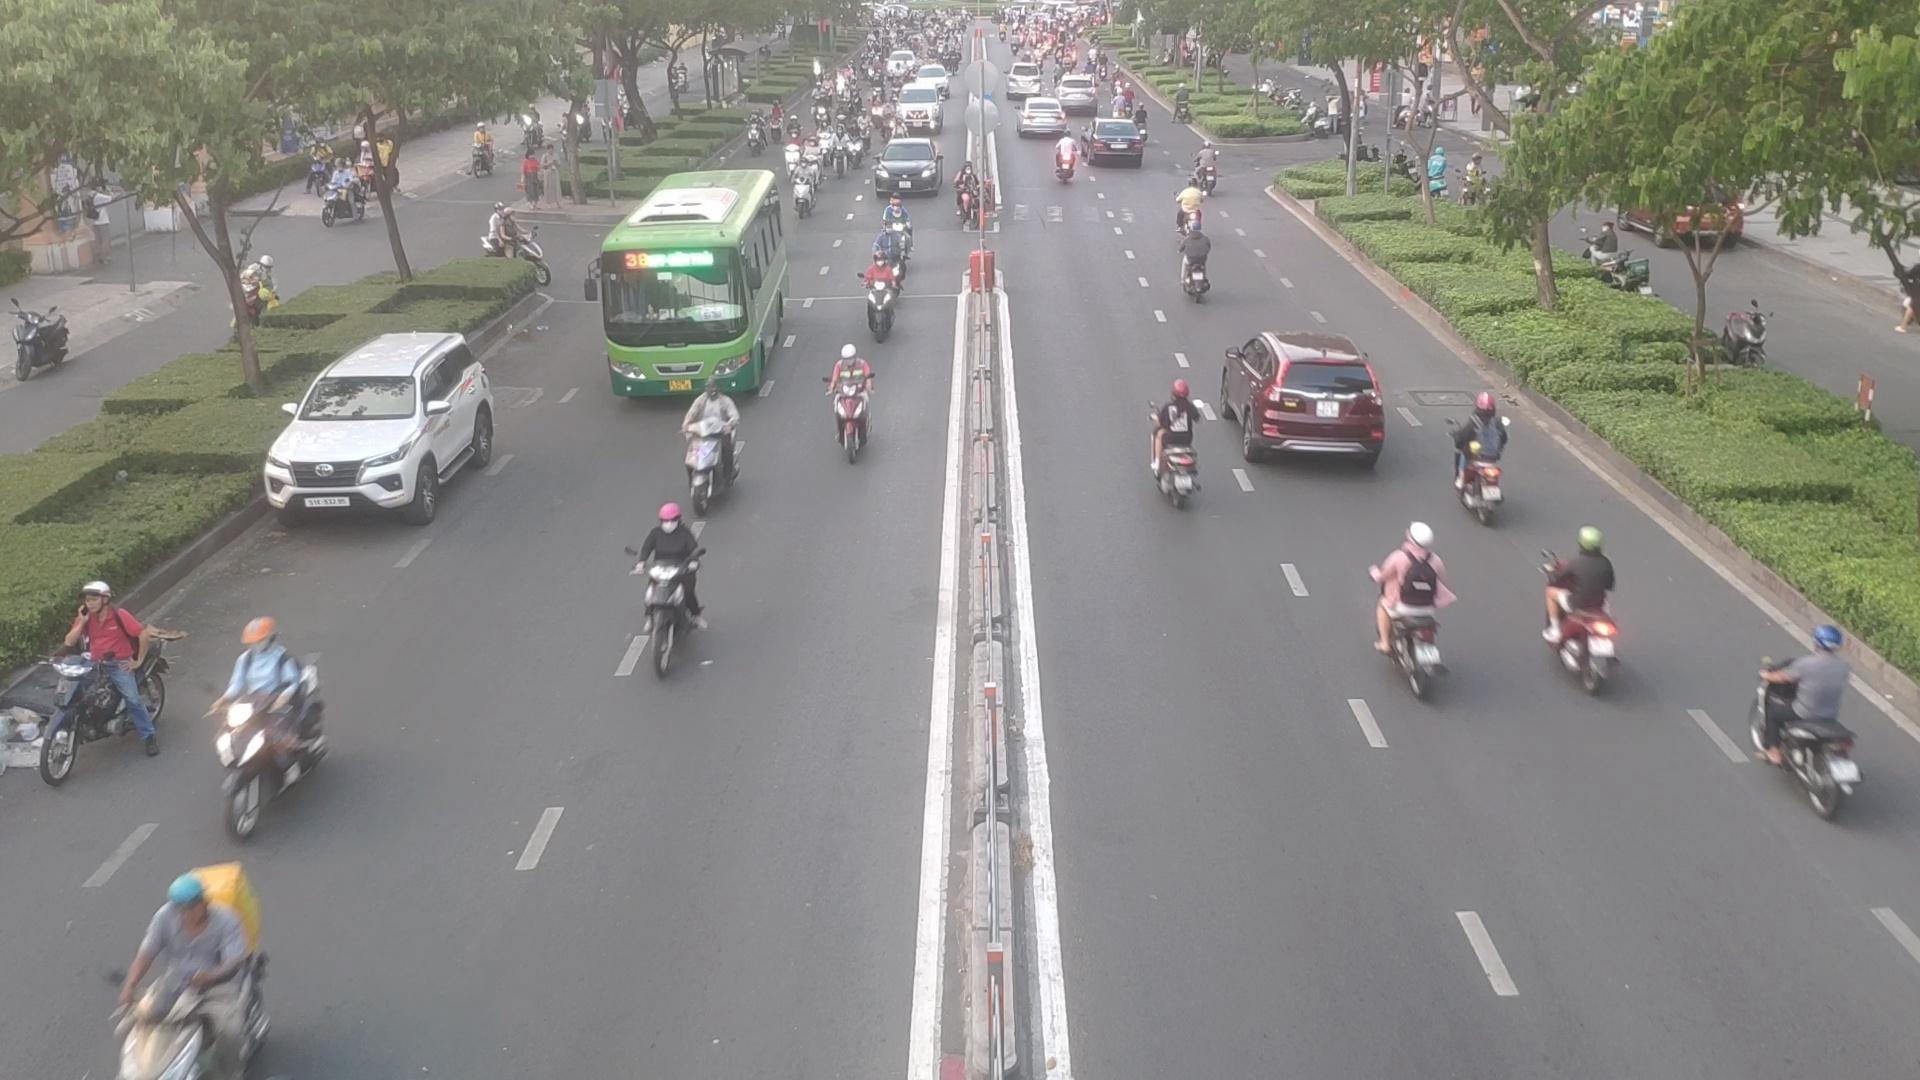bus: (593, 186, 796, 409)
car: (266, 331, 512, 527), (1215, 322, 1386, 462), (877, 138, 948, 200), (1018, 100, 1068, 138)
motorbike: (105, 862, 272, 1076), (20, 583, 167, 781), (1735, 622, 1862, 815), (210, 626, 330, 823), (609, 506, 713, 669), (1371, 531, 1470, 687), (1539, 530, 1630, 683), (1135, 380, 1207, 506), (1451, 398, 1522, 518), (682, 385, 752, 495), (822, 348, 887, 462), (855, 261, 909, 348), (1172, 229, 1215, 303), (963, 171, 1007, 233), (1048, 138, 1081, 186), (837, 123, 866, 169)
